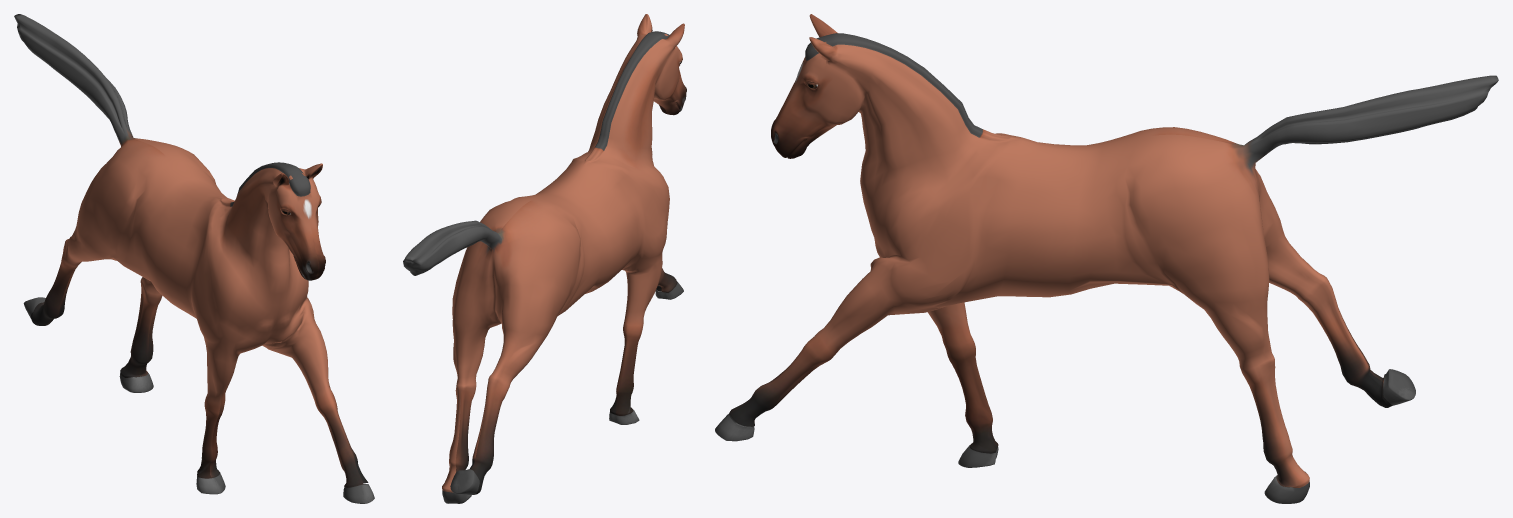
File: horse_obj_0.obj
The picture shows the model from 3 angles, left to right: view 1: azimuth 30°, elevation 25°; view 2: azimuth 150°, elevation 25°; view 3: azimuth 270°, elevation 25°; orthographic projection. The views are drawn at different scales.
Visible parts, largest first — view 1: Figure_1; view 2: Figure_1; view 3: Figure_1.
Part boxes in pixels (left/top/right/bottom): Figure_1: left=14, top=14, right=374, bottom=503; Figure_1: left=403, top=14, right=686, bottom=503; Figure_1: left=715, top=14, right=1498, bottom=503.
Bounding box in the file's own units: 0.2421 × 0.8335 × 1.3.
7 materials, 7 textured.
